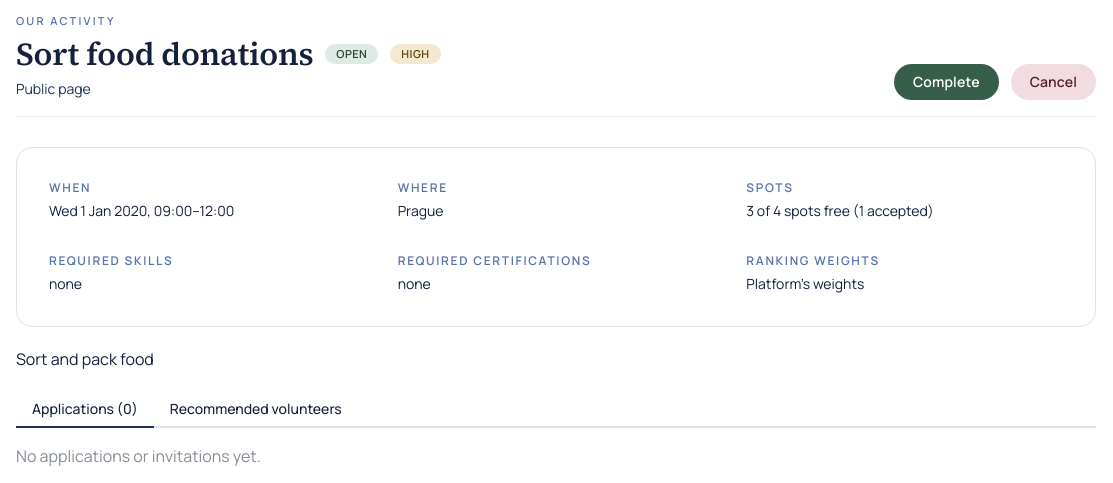
Scenario: ManageActivityPage › explains instead of asking for recommendations once the activity has started
The image size is (1113, 483).
Click the tab "Recommended volunteers" at (256, 410), box [154, 392, 358, 428]
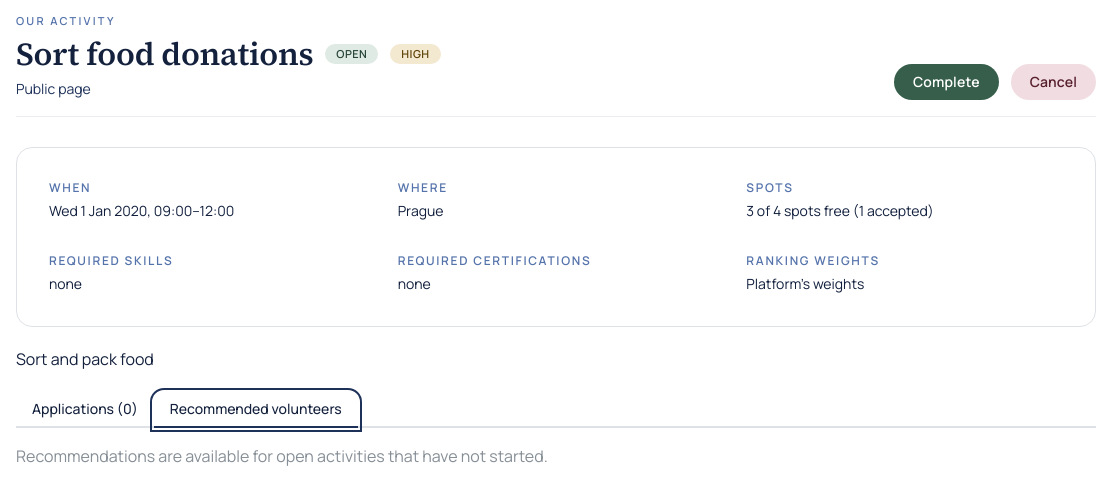
Check: the text "available for open activities that have not started" is shown, box [16, 445, 548, 467]
